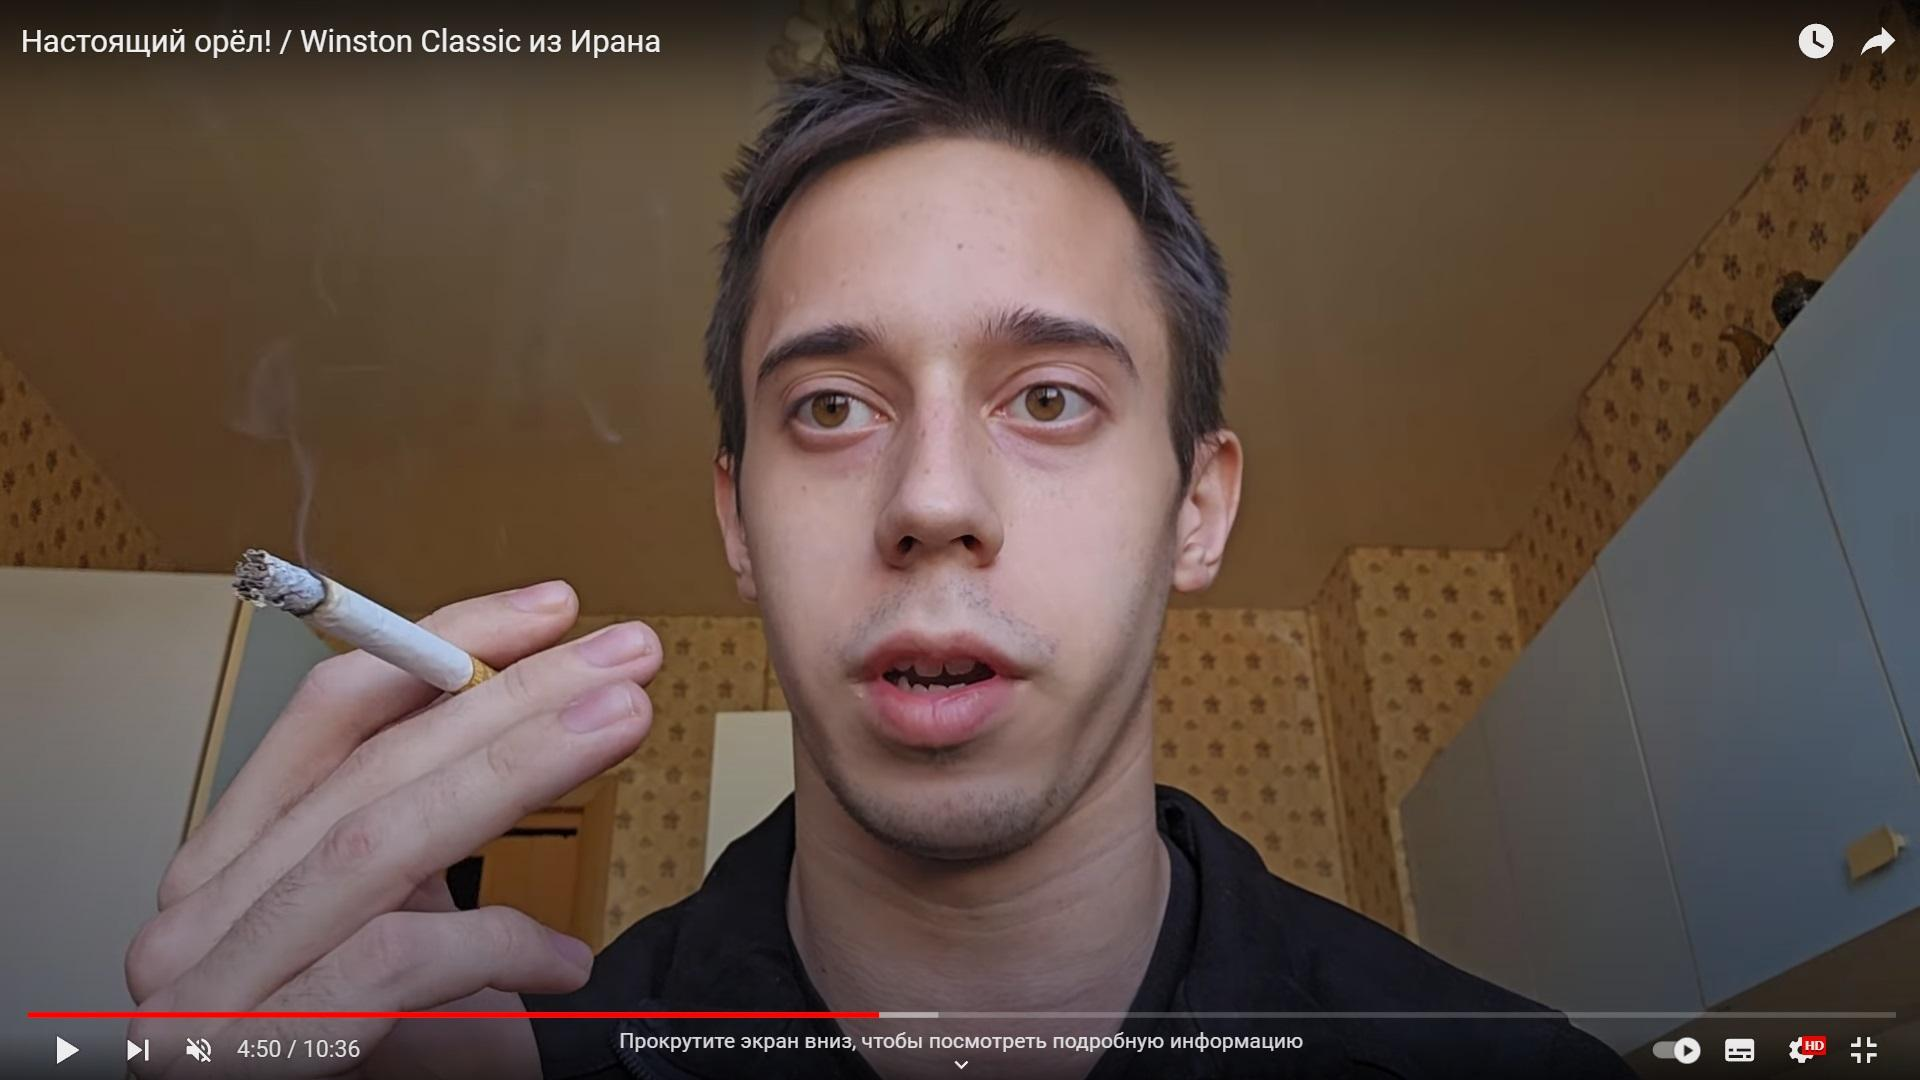cigarette: (231, 547, 500, 698)
